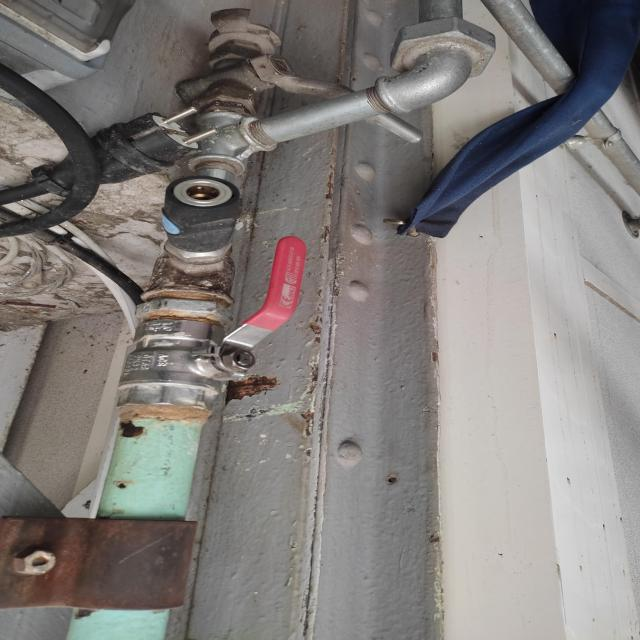opened_valve: (111, 234, 312, 404)
